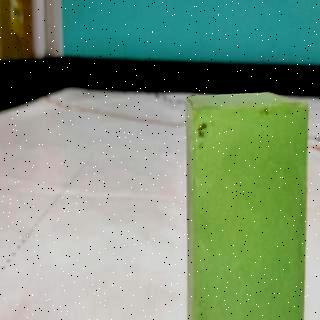greenbox: (184, 94, 308, 320)
